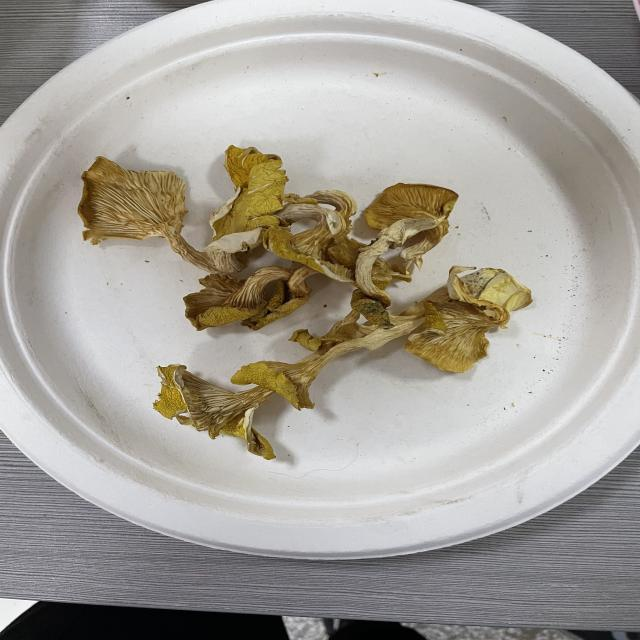Pleurotus citrinopileatus: (194, 81, 612, 422)
